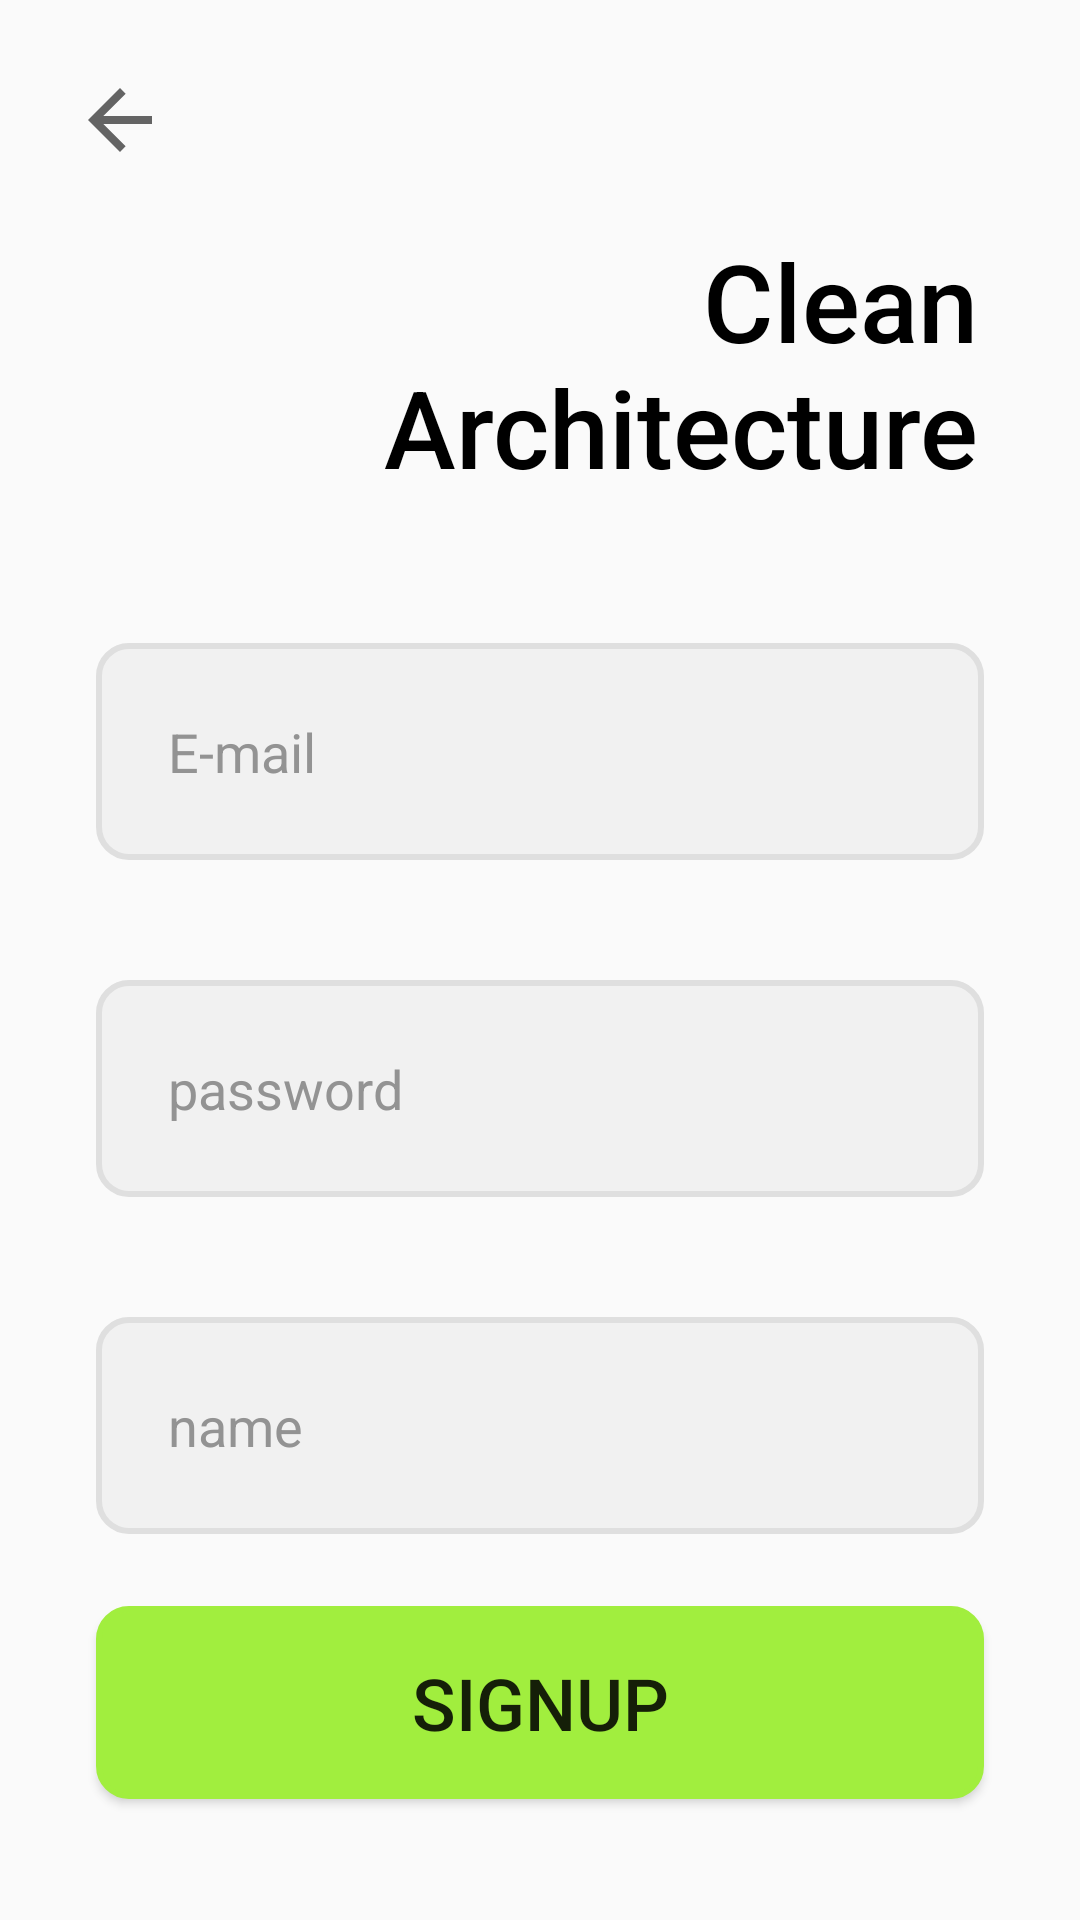

Icons on this 1080 × 1920 Android screen, each with the point to tap as (x=x, y=y):
backarrow: (x=120, y=120)
